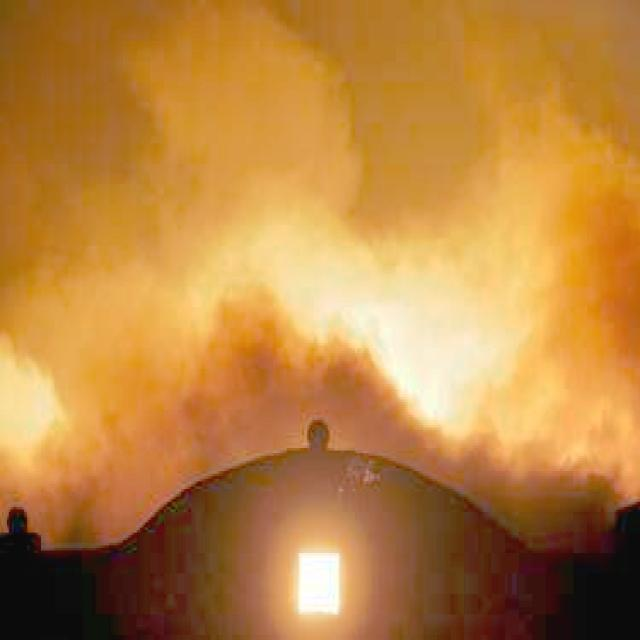asap: (1, 1, 640, 584)
